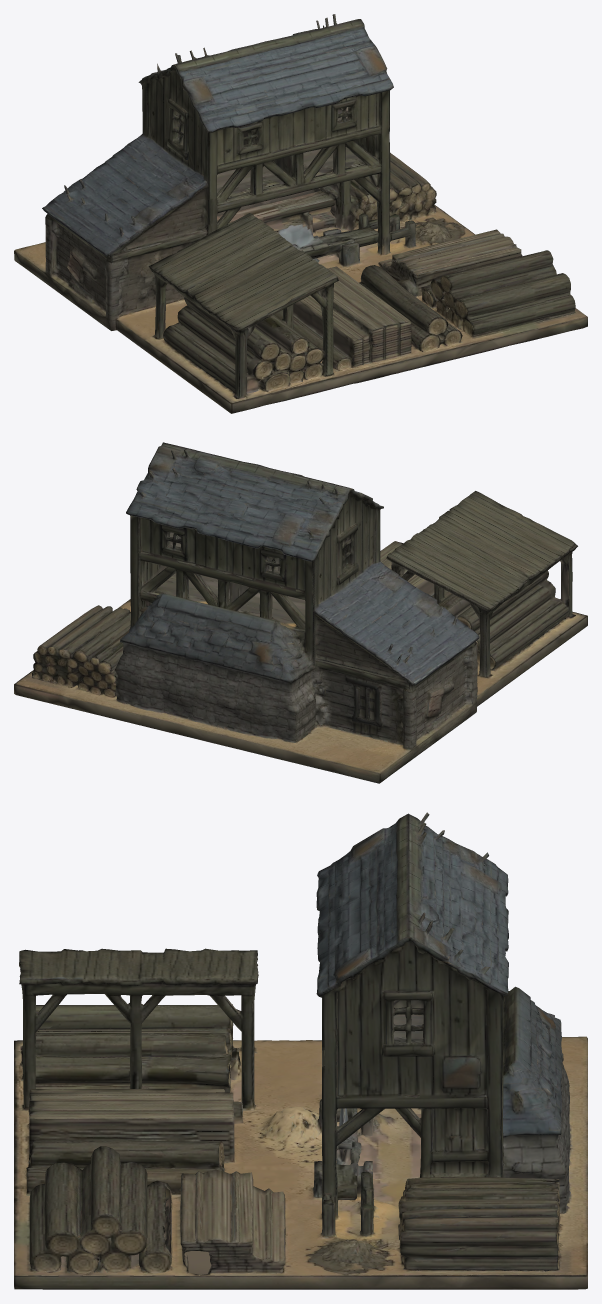
Rendered from building_lumberyard.glb.
The picture shows the model from 3 angles, top to bottom: view 1: azimuth 30°, elevation 25°; view 2: azimuth 150°, elevation 25°; view 3: azimuth 270°, elevation 25°; orthographic projection. The views are drawn at different scales.
Visible parts, largest first — view 1: Mesh_0; view 2: Mesh_0; view 3: Mesh_0.
Part boxes in pixels (bbox=[...]): Mesh_0: bbox=[14, 14, 587, 413]; Mesh_0: bbox=[14, 442, 587, 783]; Mesh_0: bbox=[14, 812, 587, 1289].
Size of the model in its own units: 1.91 by 1.13 by 1.91.
Materials: 1 (1 with a texture image).
